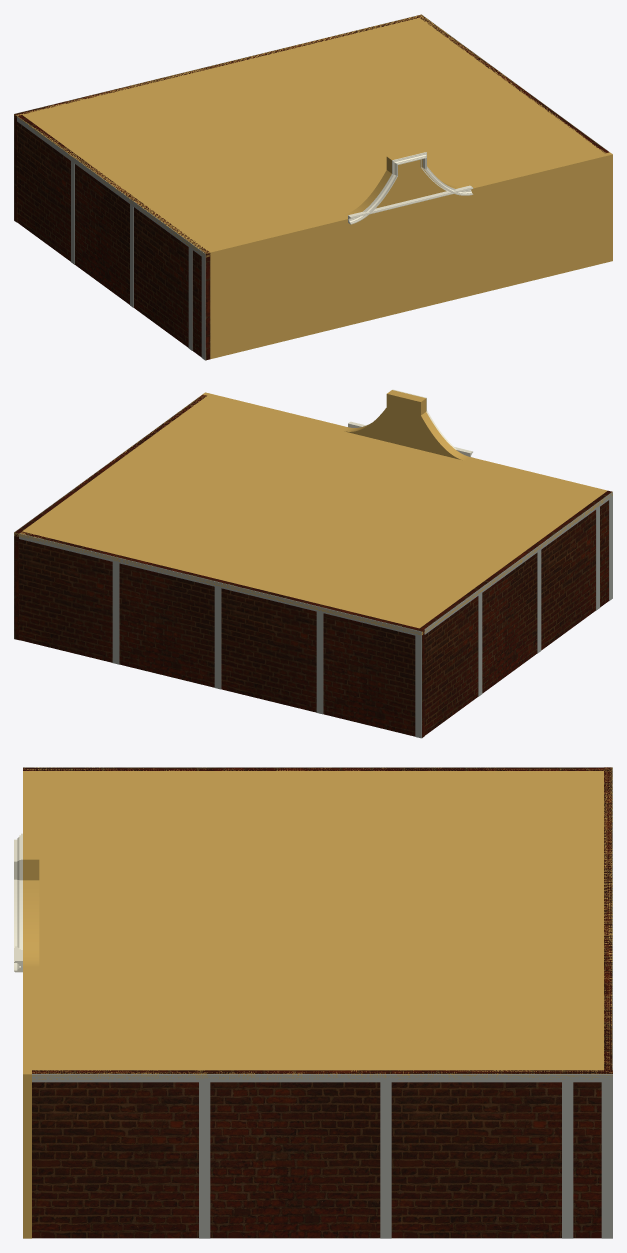
File: building.glb
3 renders of one model, top to bottom at view 1: azimuth 30°, elevation 25°; view 2: azimuth 150°, elevation 25°; view 3: azimuth 270°, elevation 25°, orthographic. The views are drawn at different scales.
Visible parts, largest first — view 1: roof/house:0/roof_slab#0001, house:0/edge0/z0/house:0/edge0/z0/wall_0_0, house:0/edge3/z0/house:0/edge3/z0/wall_0_0, crown/coronamiento/crown_body#0001, house:0/edge2/z0/house:0/edge2/z0/wall_0_0, house:0/edge3/z0/house:0/edge3/z0/beam_0_0, crown/coronamiento/crown_moulding#0001, house:0/edge1/z0/house:0/edge1/z0/wall_0_0, crown/coronamiento/crown_base_cornice#0001, house:0/edge3/z0/house:0/edge3/z0/column_1_0, house:0/edge3/z0/house:0/edge3/z0/column_4_0; view 2: roof/house:0/roof_slab#0001, house:0/edge2/z0/house:0/edge2/z0/wall_0_0, house:0/edge3/z0/house:0/edge3/z0/wall_0_0, crown/coronamiento/crown_body#0001, house:0/edge2/z0/house:0/edge2/z0/beam_0_0, house:0/edge1/z0/house:0/edge1/z0/wall_0_0, house:0/edge3/z0/house:0/edge3/z0/beam_0_0, house:0/edge0/z0/house:0/edge0/z0/wall_0_0, house:0/edge2/z0/house:0/edge2/z0/column_2_0, house:0/edge2/z0/house:0/edge2/z0/column_3_0, house:0/edge2/z0/house:0/edge2/z0/column_4_0, house:0/edge2/z0/house:0/edge2/z0/column_1_0 (+2 smaller); view 3: roof/house:0/roof_slab#0001, house:0/edge1/z0/house:0/edge1/z0/wall_0_0, house:0/edge1/z0/house:0/edge1/z0/beam_0_0, house:0/edge0/z0/house:0/edge0/z0/wall_0_0, house:0/edge2/z0/house:0/edge2/z0/wall_0_0, house:0/edge3/z0/house:0/edge3/z0/wall_0_0, crown/coronamiento/crown_body#0001, house:0/edge1/z0/house:0/edge1/z0/column_1_0, house:0/edge1/z0/house:0/edge1/z0/column_2_0, house:0/edge1/z0/house:0/edge1/z0/column_3_0, house:0/edge1/z0/house:0/edge1/z0/column_4_0, crown/coronamiento/crown_moulding#0001.
Part boxes in pixels (x1,y1,x2,y2): roof/house:0/roof_slab#0001: [14, 14, 612, 257]; house:0/edge0/z0/house:0/edge0/z0/wall_0_0: [208, 152, 612, 359]; house:0/edge3/z0/house:0/edge3/z0/wall_0_0: [17, 115, 210, 360]; crown/coronamiento/crown_body#0001: [343, 148, 465, 218]; house:0/edge2/z0/house:0/edge2/z0/wall_0_0: [14, 16, 418, 222]; house:0/edge3/z0/house:0/edge3/z0/beam_0_0: [17, 116, 205, 259]; crown/coronamiento/crown_moulding#0001: [348, 152, 473, 224]; house:0/edge1/z0/house:0/edge1/z0/wall_0_0: [417, 14, 608, 153]; crown/coronamiento/crown_base_cornice#0001: [348, 185, 473, 219]; house:0/edge3/z0/house:0/edge3/z0/column_1_0: [201, 257, 205, 360]; house:0/edge3/z0/house:0/edge3/z0/column_4_0: [188, 247, 192, 350]; roof/house:0/roof_slab#0001: [14, 393, 612, 635]; house:0/edge2/z0/house:0/edge2/z0/wall_0_0: [19, 531, 424, 737]; house:0/edge3/z0/house:0/edge3/z0/wall_0_0: [420, 490, 612, 735]; crown/coronamiento/crown_body#0001: [343, 390, 468, 460]; house:0/edge2/z0/house:0/edge2/z0/beam_0_0: [19, 533, 421, 636]; house:0/edge1/z0/house:0/edge1/z0/wall_0_0: [14, 394, 206, 639]; house:0/edge3/z0/house:0/edge3/z0/beam_0_0: [424, 492, 612, 634]; house:0/edge0/z0/house:0/edge0/z0/wall_0_0: [202, 392, 607, 492]; house:0/edge2/z0/house:0/edge2/z0/column_2_0: [112, 562, 119, 664]; house:0/edge2/z0/house:0/edge2/z0/column_3_0: [214, 587, 221, 689]; house:0/edge2/z0/house:0/edge2/z0/column_4_0: [316, 611, 323, 714]; house:0/edge2/z0/house:0/edge2/z0/column_1_0: [415, 635, 421, 738]; roof/house:0/roof_slab#0001: [23, 767, 612, 1079]; house:0/edge1/z0/house:0/edge1/z0/wall_0_0: [32, 1070, 612, 1238]; house:0/edge1/z0/house:0/edge1/z0/beam_0_0: [32, 1074, 612, 1082]; house:0/edge0/z0/house:0/edge0/z0/wall_0_0: [23, 771, 31, 1238]; house:0/edge2/z0/house:0/edge2/z0/wall_0_0: [604, 767, 612, 1070]; house:0/edge3/z0/house:0/edge3/z0/wall_0_0: [23, 767, 603, 770]; crown/coronamiento/crown_body#0001: [25, 833, 39, 966]; house:0/edge1/z0/house:0/edge1/z0/column_1_0: [601, 1082, 612, 1238]; house:0/edge1/z0/house:0/edge1/z0/column_2_0: [199, 1082, 210, 1238]; house:0/edge1/z0/house:0/edge1/z0/column_3_0: [380, 1082, 391, 1238]; house:0/edge1/z0/house:0/edge1/z0/column_4_0: [562, 1082, 573, 1238]; crown/coronamiento/crown_moulding#0001: [14, 833, 22, 972].
Size of the model in its own units: 16 by 5.8 by 13.2.
4 materials, 1 textured.
